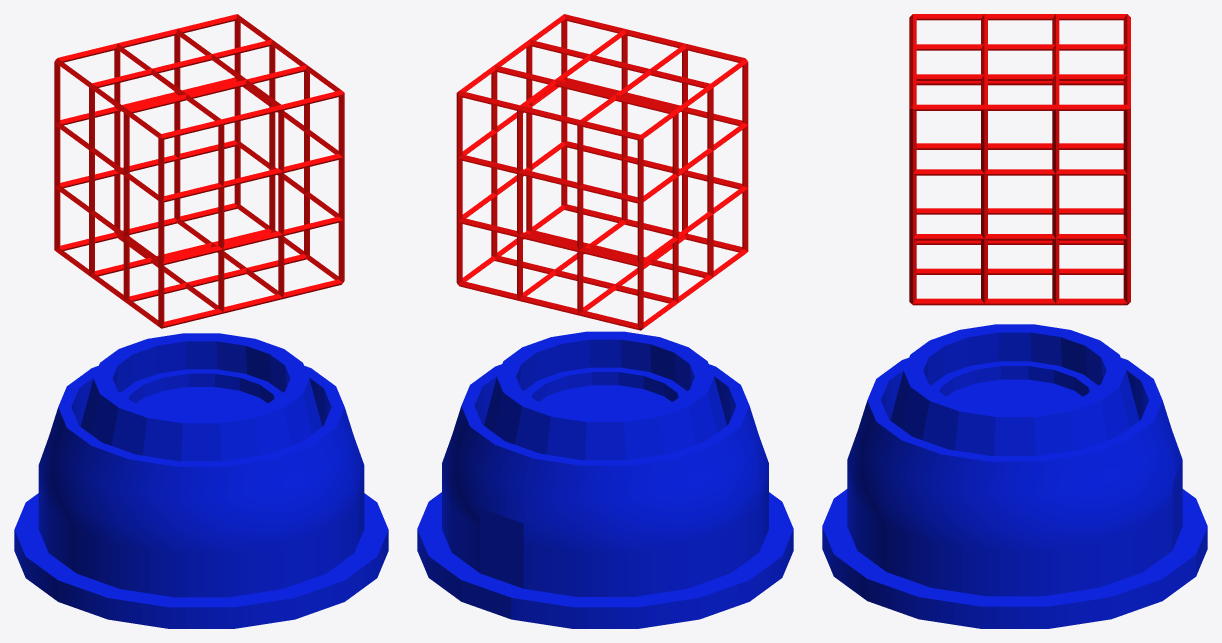
The model's file is Hollogram_cube.FBX.
The picture shows the model from 3 angles, left to right: view 1: azimuth 30°, elevation 25°; view 2: azimuth 150°, elevation 25°; view 3: azimuth 270°, elevation 25°; orthographic projection. The views are drawn at different scales.
Parts seen in each view (by area): view 1: Hologram_base, Cube; view 2: Hologram_base, Cube; view 3: Hologram_base, Cube.
Part boxes in pixels (x1=…): Hologram_base: x1=14, y1=333, x2=388, y2=628; Cube: x1=54, y1=14, x2=344, y2=328; Hologram_base: x1=417, y1=331, x2=793, y2=628; Cube: x1=456, y1=14, x2=748, y2=330; Hologram_base: x1=822, y1=324, x2=1207, y2=628; Cube: x1=909, y1=14, x2=1130, y2=305.
Bounding box in the file's own units: 67.95 × 96.68 × 69.
